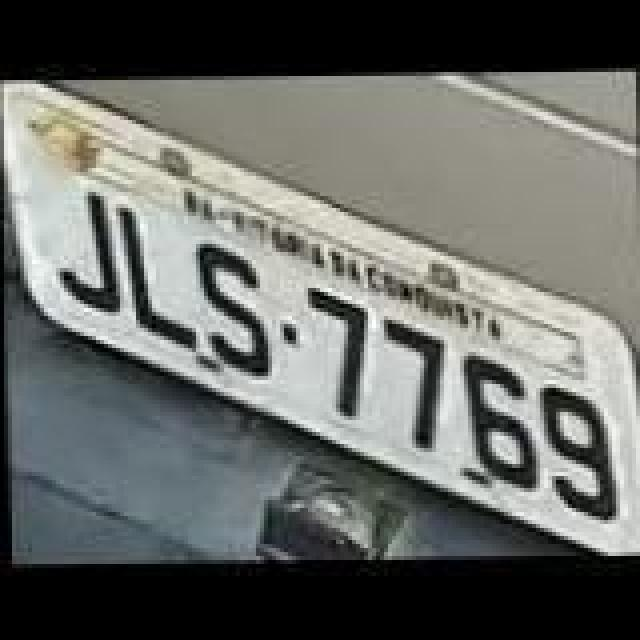6: (450, 354, 534, 494)
7: (382, 316, 458, 452), (304, 284, 376, 420)
9: (534, 384, 622, 528)
J: (46, 188, 126, 316)
L: (118, 202, 202, 350)
S: (194, 246, 278, 386)
